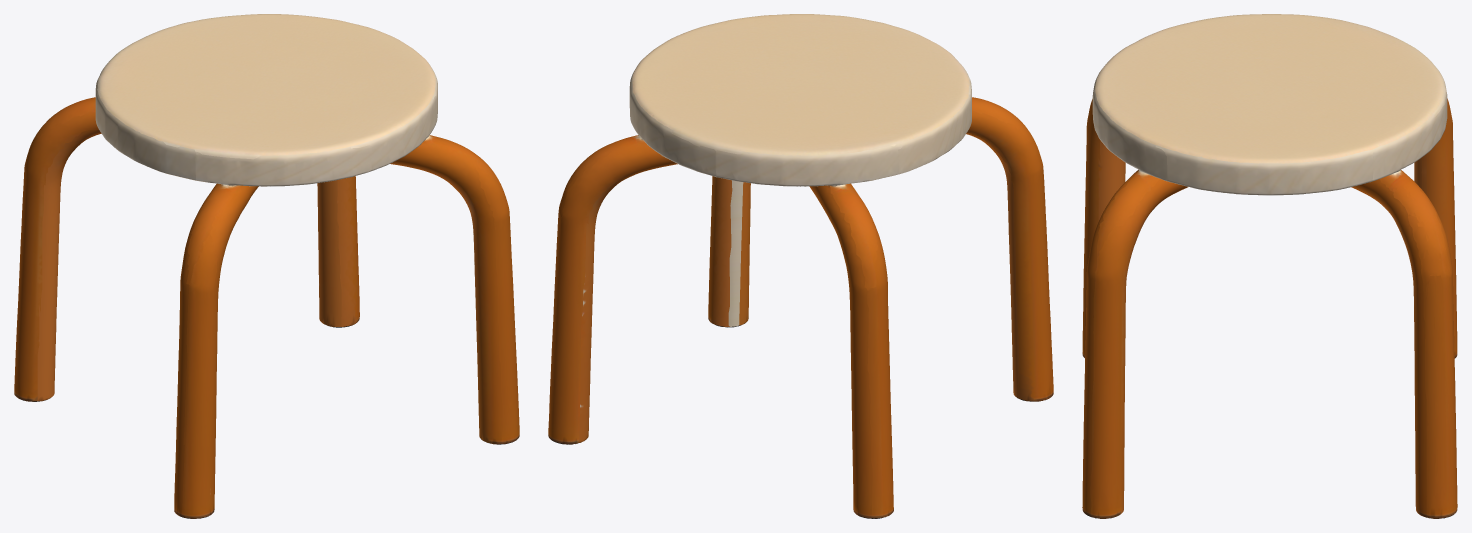
Rendered from stool__stool#5.glb.
3 views of the same model, side by side, from view 1: azimuth 30°, elevation 25°; view 2: azimuth 150°, elevation 25°; view 3: azimuth 270°, elevation 25° (orthographic). The views are drawn at different scales.
Visible parts, largest first — view 1: tmpn6qb_tli.ply; view 2: tmpn6qb_tli.ply; view 3: tmpn6qb_tli.ply.
Boxes of the visible parts, x1,y1,x2,y2 form: tmpn6qb_tli.ply: [14, 14, 519, 518]; tmpn6qb_tli.ply: [548, 14, 1053, 518]; tmpn6qb_tli.ply: [1082, 14, 1457, 518].
Size of the model in its own units: 1.99 by 1.86 by 1.82.
Materials: 1 (1 with a texture image).
